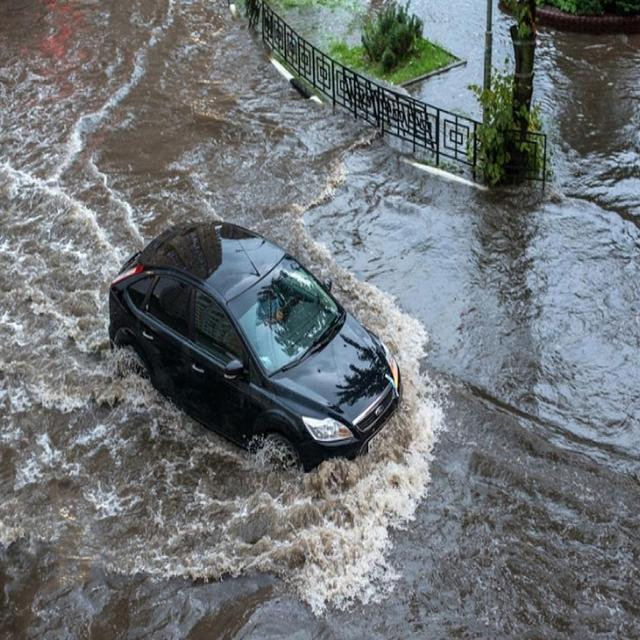Car-RiskLevel2: (108, 211, 410, 463)
